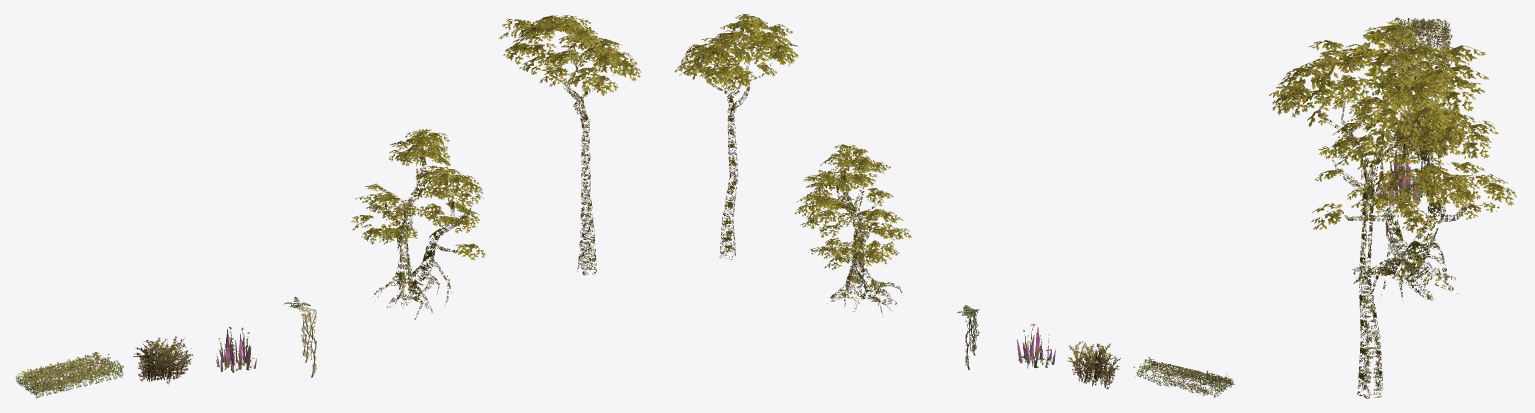
File: d_1101_tree.FBX
3 renders of one model, left to right at view 1: azimuth 30°, elevation 25°; view 2: azimuth 150°, elevation 25°; view 3: azimuth 270°, elevation 25°, orthographic. The views are drawn at different scales.
Visible parts, largest first — view 1: Object001, Object002, d_1101_tree01, d_1101_tree16, d_1101_tree14, d_1101_tree15, d_1101_tree09, d_1101_tree11; view 2: Object001, Object002, d_1101_tree01, d_1101_tree16, d_1101_tree14, d_1101_tree15, d_1101_tree09, d_1101_tree11; view 3: Object002, Object001, d_1101_tree01, d_1101_tree14, d_1101_tree16, d_1101_tree09, d_1101_tree15.
Part boxes in pixels (bbox=[...]): Object001: bbox=[351, 128, 485, 260]; Object002: bbox=[498, 15, 641, 95]; d_1101_tree01: bbox=[372, 129, 473, 319]; d_1101_tree16: bbox=[15, 352, 123, 398]; d_1101_tree14: bbox=[538, 44, 613, 275]; d_1101_tree15: bbox=[133, 336, 193, 384]; d_1101_tree09: bbox=[215, 327, 256, 372]; d_1101_tree11: bbox=[283, 296, 316, 377]; Object001: bbox=[795, 144, 912, 269]; Object002: bbox=[674, 14, 798, 90]; d_1101_tree01: bbox=[817, 153, 901, 314]; d_1101_tree16: bbox=[1134, 356, 1234, 397]; d_1101_tree14: bbox=[703, 61, 771, 259]; d_1101_tree15: bbox=[1067, 341, 1120, 389]; d_1101_tree09: bbox=[1016, 323, 1055, 368]; d_1101_tree11: bbox=[957, 305, 979, 369]; Object002: bbox=[1269, 22, 1488, 138]; Object001: bbox=[1311, 70, 1516, 236]; d_1101_tree01: bbox=[1332, 85, 1481, 302]; d_1101_tree14: bbox=[1323, 78, 1433, 398]; d_1101_tree16: bbox=[1390, 17, 1452, 84]; d_1101_tree09: bbox=[1381, 147, 1432, 205]; d_1101_tree15: bbox=[1387, 93, 1449, 163].
Bounding box in the file's own units: 3256 × 1624 × 906.
